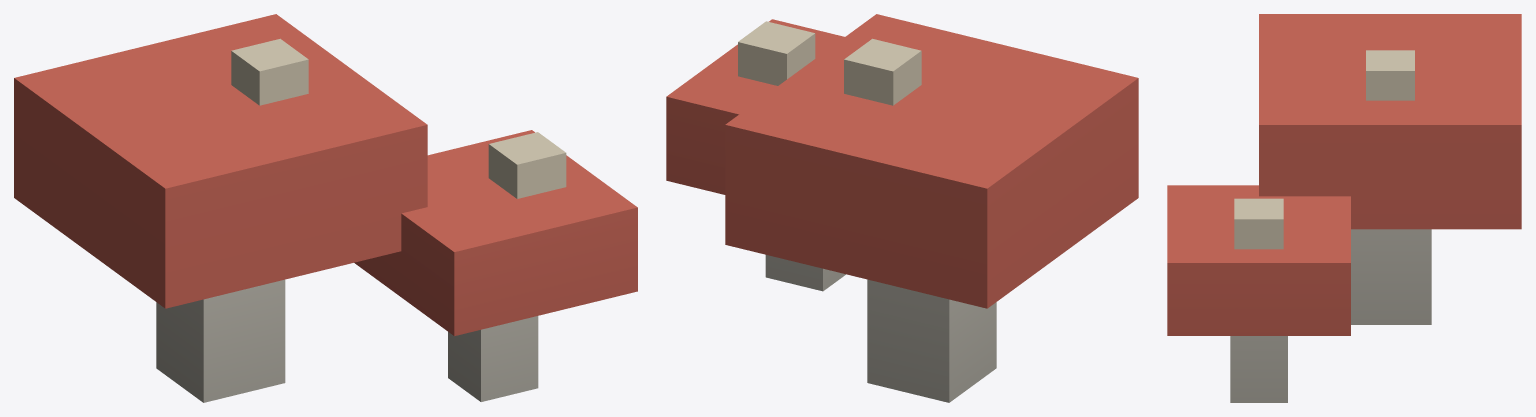
File: mushroom-tiny.glb
3 views of the same model, side by side, from view 1: azimuth 30°, elevation 25°; view 2: azimuth 150°, elevation 25°; view 3: azimuth 270°, elevation 25° (orthographic). The views are drawn at different scales.
Visible parts, largest first — view 1: mushroom-tiny_body; view 2: mushroom-tiny_body; view 3: mushroom-tiny_body.
Part boxes in pixels (left/top/right/bottom): mushroom-tiny_body: left=14, top=14, right=637, bottom=402; mushroom-tiny_body: left=666, top=14, right=1138, bottom=402; mushroom-tiny_body: left=1167, top=14, right=1521, bottom=402.
Bounding box in the file's own units: 0.256 × 0.18 × 0.216.
